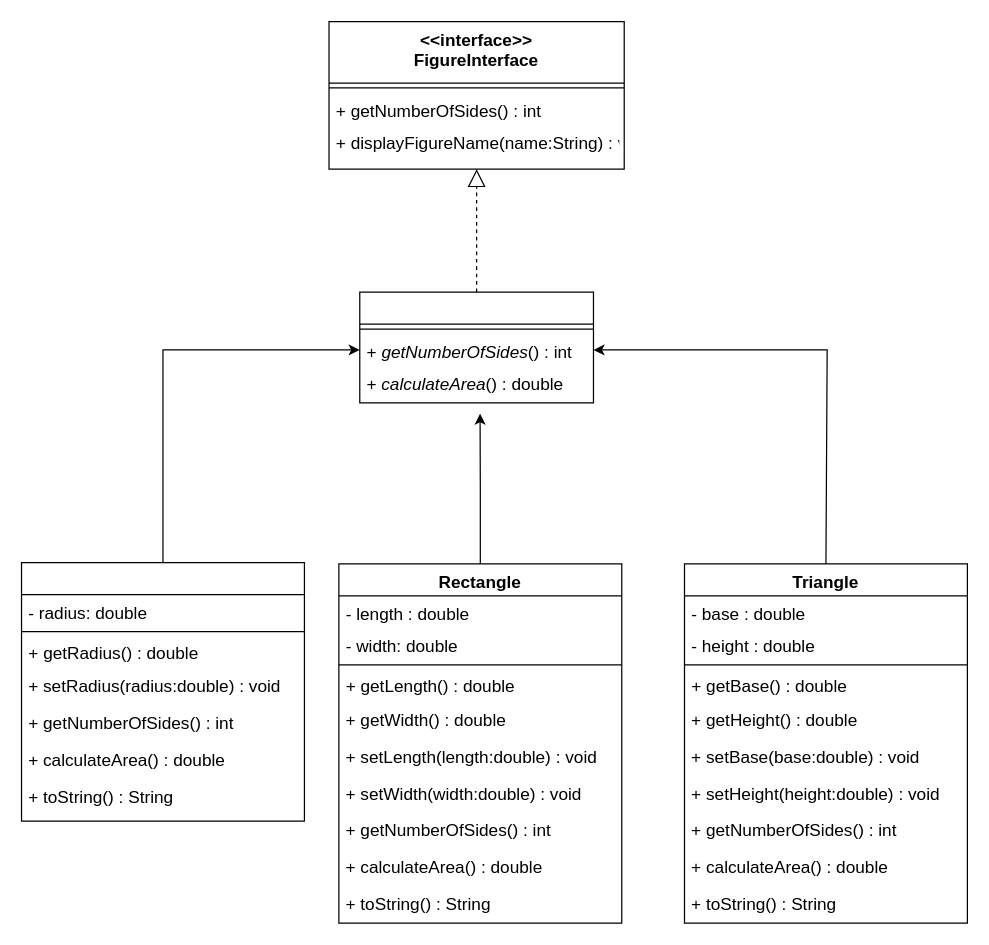
The diagram is 989 pixels wide and 945 high, and some of its shapes have lost their labels. Here are the shapes that lost their labels. From the top down, the box of each, then its label:
(359, 291, 593, 403): Figure
(20, 561, 304, 821): Circle
